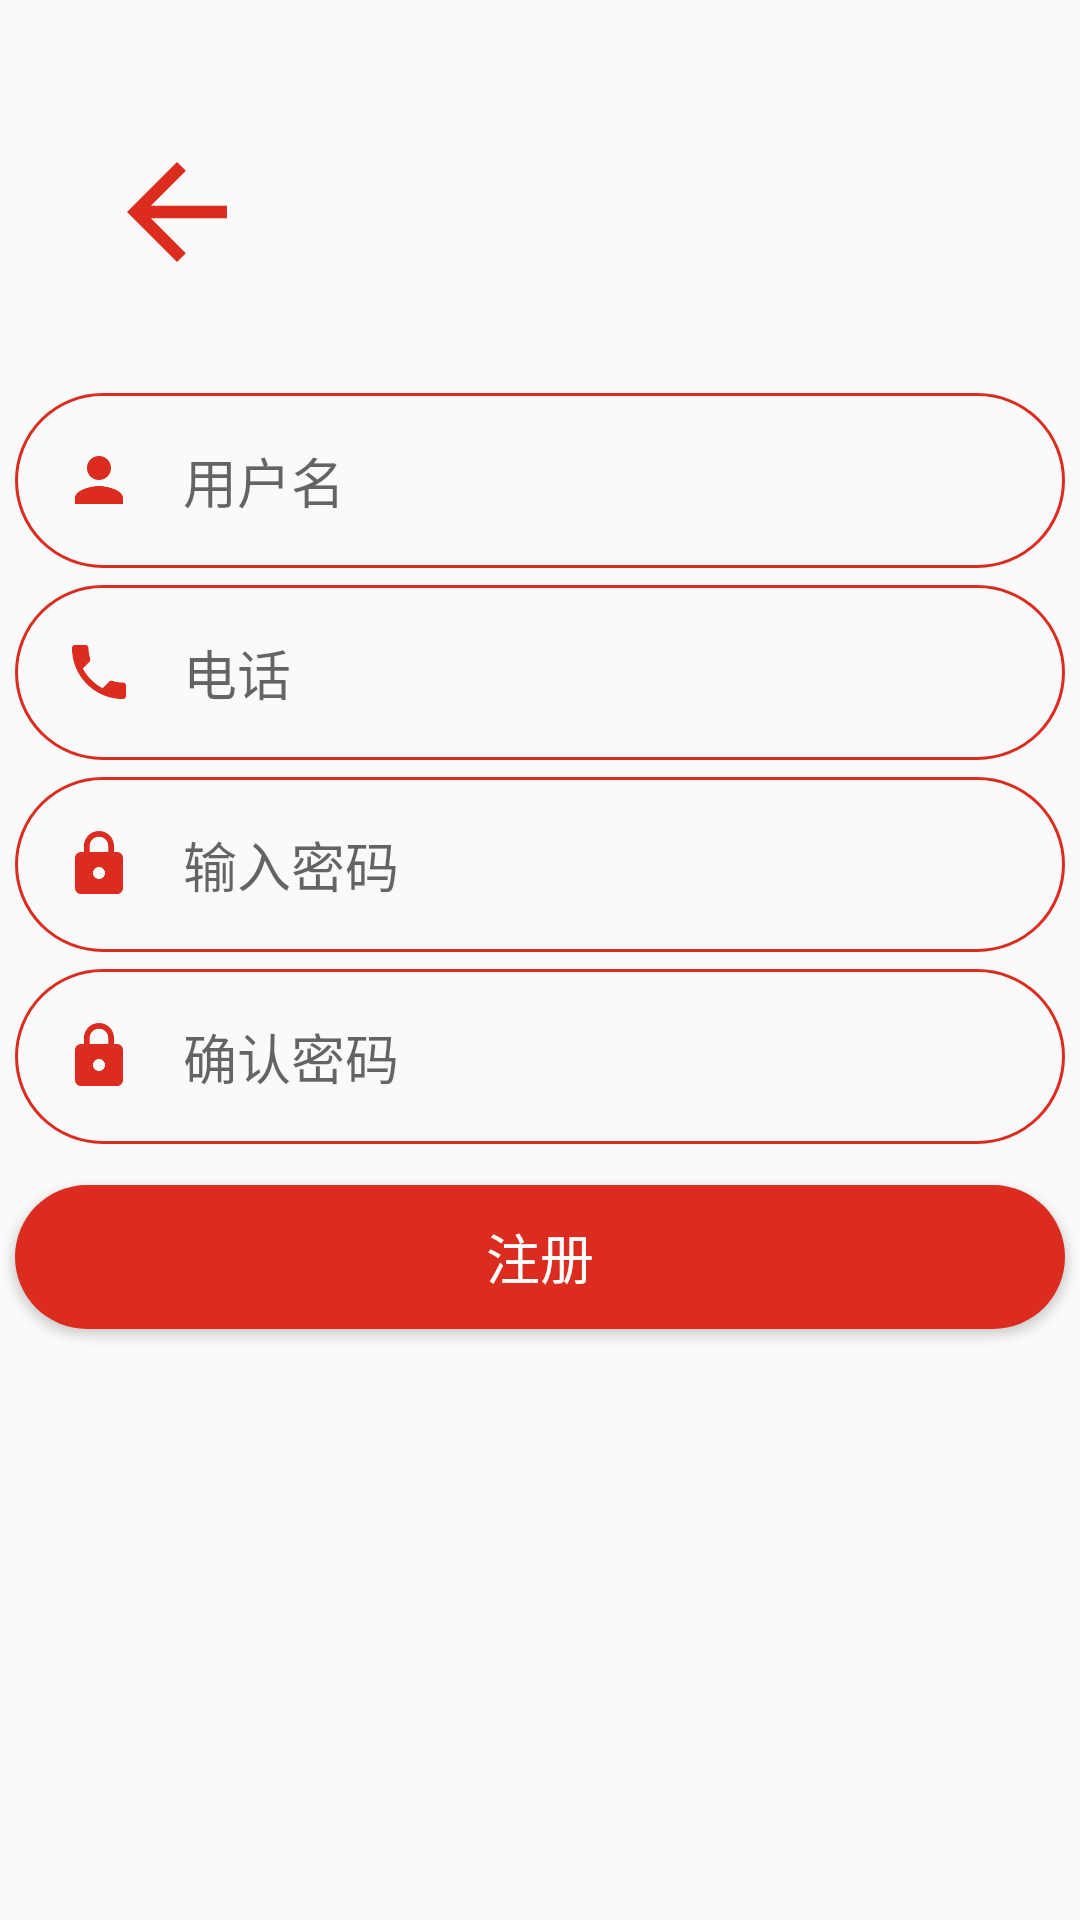

Icon click points for this 1080 × 1920 phone screenshot, format (x,y):
regist back: (177,212)
